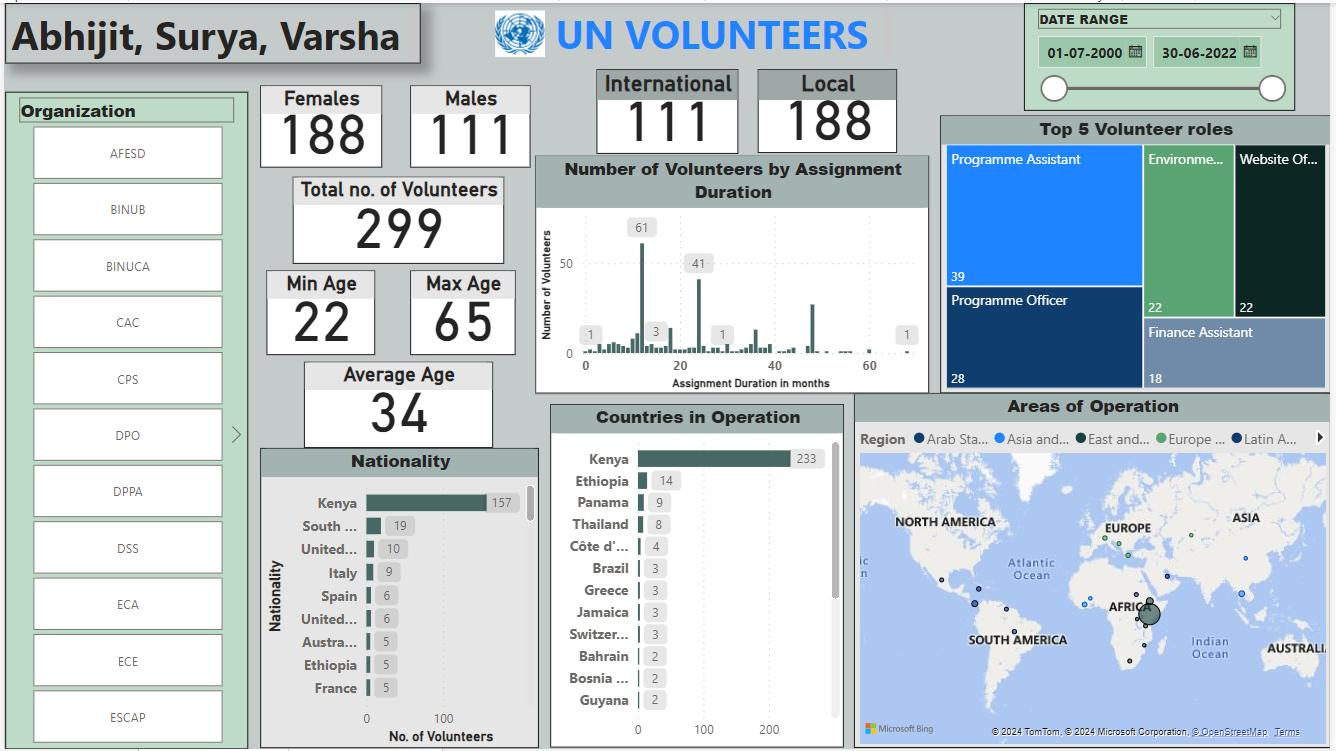

The dashboard page shown, as its layout file describes it:
{"tool":"powerbi","page":{"name":"DASHBOARD 1","canvas":[1280,720],"ordinal":0},"visuals":[{"type":"card","title":"Total no. of Volunteers","fields":{"Values":["Measure Table.Number of Volunteers"]},"box":[3.7,420.5,268.9,97.8],"z":0},{"type":"card","title":"Females","fields":{"Values":["Sum(UNVolunteer Data.Female)"]},"box":[4.9,323.9,133.2,89.2],"z":1000},{"type":"card","title":"Males","fields":{"Values":["Sum(UNVolunteer Data.Male)"]},"box":[145.5,325.2,127.1,89.2],"z":2000},{"type":"card","title":"Average Age","fields":{"Values":["Measure Table.Average Age"]},"box":[1.2,625.9,267.7,92.9],"z":3000},{"type":"card","title":"Max Age","fields":{"Values":["Max(UNVolunteer Data.Age)"]},"box":[141.8,529.3,127.1,90.5],"z":4000},{"type":"card","title":"Min Age","fields":{"Values":["Min(UNVolunteer Data.Age)"]},"box":[3.7,529.3,129.6,90.5],"z":5000},{"type":"card","title":"International","fields":{"Values":["CountNonNull(UNVolunteer Data.Assignment Type)"]},"box":[284.8,72.1,183.4,89.2],"z":6000},{"type":"card","title":"Local","fields":{"Values":["CountNonNull(UNVolunteer Data.Assignment Type)"]},"box":[478,72.1,173.6,89.2],"z":7000},{"type":"treemap","title":"Top 5 Volunteer Roles","fields":{"Group":["UNVolunteer Data.Job Title"],"Values":["CountNonNull(UNVolunteer Data.Volunteer Type)"]},"box":[863,382.6,354.5,294.6],"z":8000},{"type":"barChart","title":"Volunteer Type","fields":{"Category":["UNVolunteer Data.Volunteer Type"],"Y":["CountNonNull(UNVolunteer Data.Volunteer Id)"]},"box":[284.8,469.4,366.7,249.4],"z":9000},{"type":"clusteredBarChart","title":"Volunteers from different Countries","fields":{"Category":["UNVolunteer Data.Nationality"],"Y":["CountNonNull(UNVolunteer Data.Volunteer Id)"]},"box":[284.8,165,366.7,295.8],"z":10000},{"type":"map","title":"Location of  Volunteers","fields":{"Series":["UNVolunteer Data.Region"],"Size":["CountNonNull(UNVolunteer Data.Volunteer Id)"],"Category":["UNVolunteer Data.Country"]},"box":[661.3,323.9,618.5,394.8],"z":11000},{"type":"slicer","fields":{"Values":["UNVolunteer Data.Region"]},"box":[661.3,112.5,618.5,83.1],"z":12000},{"type":"slicer","fields":{"Values":["Date.Dates"]},"box":[1040.3,0,239.6,108.8],"z":13000},{"type":"slicer","fields":{"Values":["UNVolunteer Data.Country"]},"box":[661.3,202.9,618.5,110],"z":14000},{"type":"textbox","box":[1.2,0,401,58.7],"z":15000},{"type":"image","box":[469.4,0,57.5,58.7],"z":16000},{"type":"textbox","box":[526.9,0,334.9,58.7],"z":17000},{"type":"slicer","fields":{"Values":["UNVolunteer Data.Organization"]},"box":[889.9,0,150.4,108.8],"z":18000},{"type":"areaChart","fields":{"Category":["UNVolunteer Data.Country"],"Y":["Sum(UNVolunteer Data.Contract Duration)"]},"box":[1.2,72.1,271.4,240.8],"z":19000},{"type":"shape","box":[460.8,53.8,402.2,8.6],"z":19001},{"type":"shape","box":[459.6,0,402.2,12.2],"z":19002}]}

Visuals, with their boxes in screenshot pixels (x1, y1, x2, y2), scaled from the page's 1280x720 canvas onto the 1336x751 screenshot:
"Total no. of Volunteers" card: pyautogui.locateOnScreen(4, 439, 285, 541)
"Females" card: pyautogui.locateOnScreen(5, 338, 144, 431)
"Males" card: pyautogui.locateOnScreen(152, 339, 285, 432)
"Average Age" card: pyautogui.locateOnScreen(1, 653, 281, 750)
"Max Age" card: pyautogui.locateOnScreen(148, 552, 281, 646)
"Min Age" card: pyautogui.locateOnScreen(4, 552, 139, 646)
"International" card: pyautogui.locateOnScreen(297, 75, 489, 168)
"Local" card: pyautogui.locateOnScreen(499, 75, 680, 168)
"Top 5 Volunteer Roles" treemap: pyautogui.locateOnScreen(901, 399, 1271, 706)
"Volunteer Type" barChart: pyautogui.locateOnScreen(297, 490, 680, 750)
"Volunteers from different Countries" clusteredBarChart: pyautogui.locateOnScreen(297, 172, 680, 481)
"Location of  Volunteers" map: pyautogui.locateOnScreen(690, 338, 1335, 750)
slicer - UNVolunteer Data.Region: pyautogui.locateOnScreen(690, 117, 1335, 204)
slicer - Date.Dates: pyautogui.locateOnScreen(1086, 0, 1335, 113)
slicer - UNVolunteer Data.Country: pyautogui.locateOnScreen(690, 212, 1335, 326)
textbox: pyautogui.locateOnScreen(1, 0, 420, 61)
image: pyautogui.locateOnScreen(490, 0, 550, 61)
textbox: pyautogui.locateOnScreen(550, 0, 900, 61)
slicer - UNVolunteer Data.Organization: pyautogui.locateOnScreen(929, 0, 1086, 113)
areaChart - UNVolunteer Data.Country x Sum(UNVolunteer Data.Contract Duration): pyautogui.locateOnScreen(1, 75, 285, 326)
shape: pyautogui.locateOnScreen(481, 56, 901, 65)
shape: pyautogui.locateOnScreen(480, 0, 900, 13)
